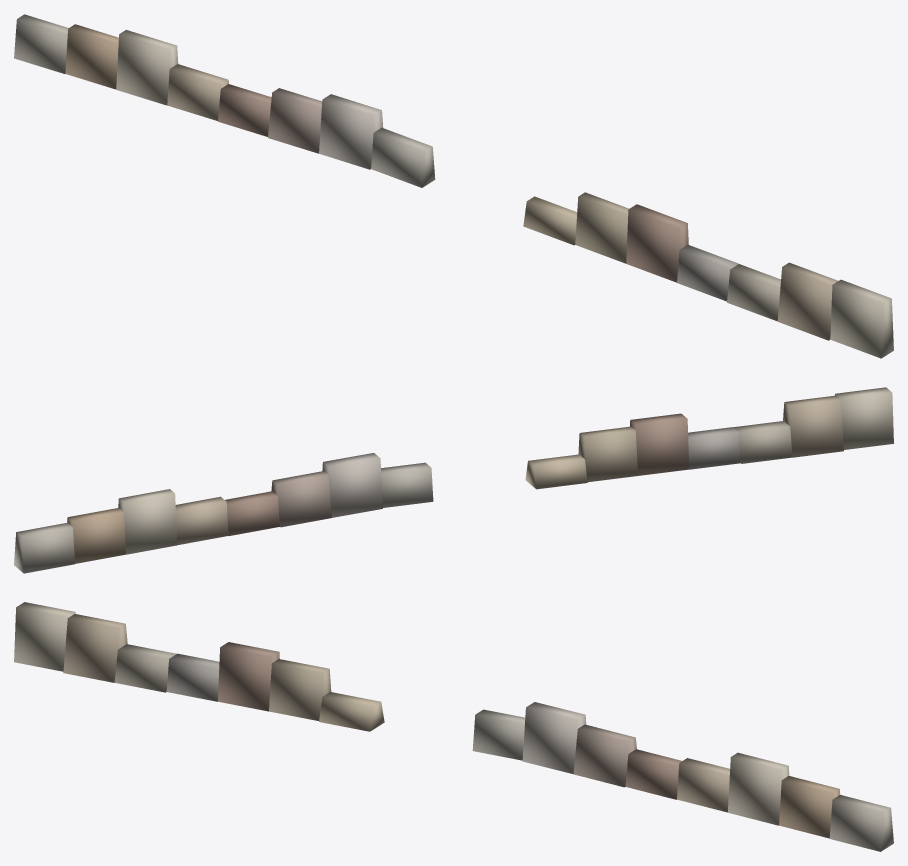
Rendered from farm_-9_8_collision.glb.
3 views of the same model, one above another, from view 1: azimuth 90°, elevation 25°; view 2: azimuth 150°, elevation 25°; view 3: azimuth 270°, elevation 25° (orthographic). The views are drawn at different scales.
Visible parts, largest first — view 1: geometry_0; view 2: geometry_0; view 3: geometry_0.
Boxes of the visible parts, bbox=[...] form: geometry_0: bbox=[14, 14, 893, 358]; geometry_0: bbox=[14, 387, 893, 573]; geometry_0: bbox=[14, 602, 893, 851].
Size of the model in its own units: 15.53 by 3.05 by 22.81.
